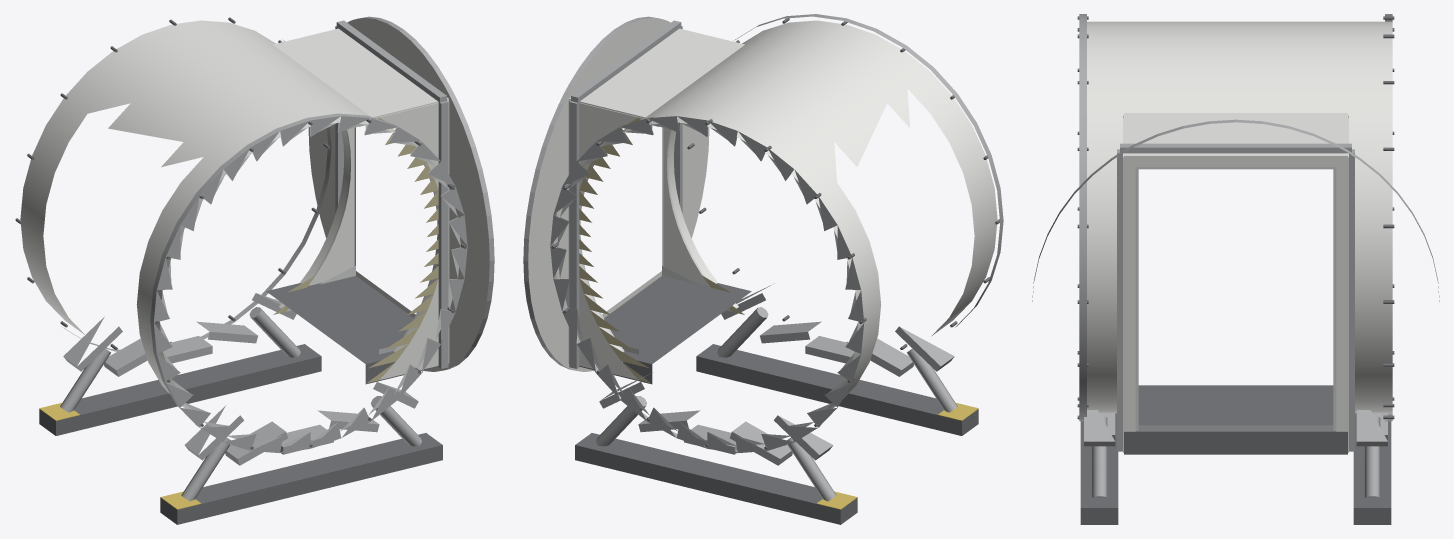
The model's file is habWindowJR_steel.glb.
The picture shows the model from 3 angles, left to right: view 1: azimuth 30°, elevation 25°; view 2: azimuth 150°, elevation 25°; view 3: azimuth 270°, elevation 25°; orthographic projection. The views are drawn at different scales.
Parts seen in each view (by area): view 1: habWindowJR_steel; view 2: habWindowJR_steel; view 3: habWindowJR_steel.
Part boxes in pixels (x1,y1,x2,y2): habWindowJR_steel: (15,16,494,524); habWindowJR_steel: (523,14,1003,524); habWindowJR_steel: (1032,14,1439,524).
Size of the model in its own units: 2.65 by 2.95 by 2.6.
